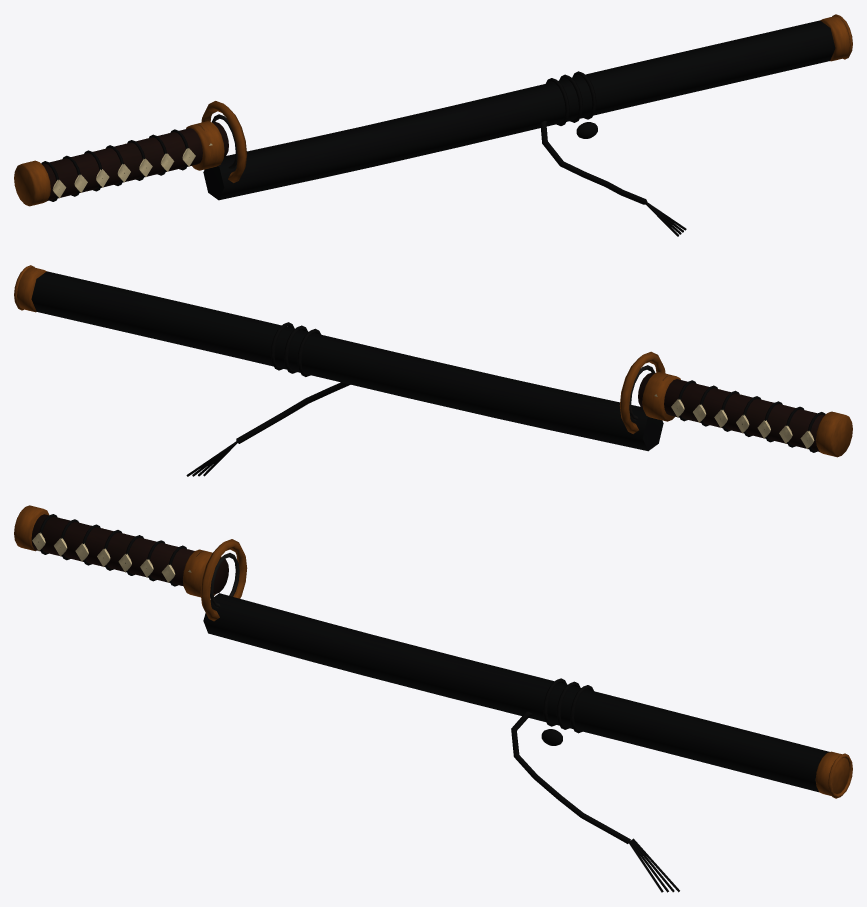
Rendered from sheathed_katana_LOD1.glb.
The picture shows the model from 3 angles, top to bottom: view 1: azimuth 30°, elevation 25°; view 2: azimuth 150°, elevation 25°; view 3: azimuth 330°, elevation 25°; orthographic projection.
Visible parts, largest first — view 1: Closed black lacquered scabbard, Wrapped handle core, Pommel cap, Metal collar, Ornate oval guard, Tied scabbard cord, Rounded scabbard tip cap; view 2: Closed black lacquered scabbard, Wrapped handle core, Pommel cap, Metal collar, Ornate oval guard, Tied scabbard cord, Rounded scabbard tip cap; view 3: Closed black lacquered scabbard, Wrapped handle core, Ornate oval guard, Tied scabbard cord, Rounded scabbard tip cap, Metal collar, Pommel cap.
Boxes of the visible parts, <box> form: Closed black lacquered scabbard: <box>203,20,835,200</box>; Wrapped handle core: <box>42,122,228,200</box>; Pommel cap: <box>14,160,50,206</box>; Metal collar: <box>186,121,224,170</box>; Ornate oval guard: <box>201,101,247,182</box>; Tied scabbard cord: <box>540,121,647,204</box>; Rounded scabbard tip cap: <box>820,16,849,61</box>; Closed black lacquered scabbard: <box>31,271,663,451</box>; Wrapped handle core: <box>638,373,824,451</box>; Pommel cap: <box>816,411,852,457</box>; Metal collar: <box>642,372,680,421</box>; Ornate oval guard: <box>619,351,665,433</box>; Tied scabbard cord: <box>236,382,350,443</box>; Rounded scabbard tip cap: <box>17,267,46,312</box>; Closed black lacquered scabbard: <box>203,593,829,792</box>; Wrapped handle core: <box>31,514,228,593</box>; Ornate oval guard: <box>200,539,247,621</box>; Tied scabbard cord: <box>511,711,630,843</box>; Rounded scabbard tip cap: <box>815,751,849,795</box>; Metal collar: <box>183,549,221,597</box>; Pommel cap: <box>14,505,49,551</box>.
Size of the model in its own units: 1.22 by 0.3359 by 0.1213.
6 materials, 6 textured.
